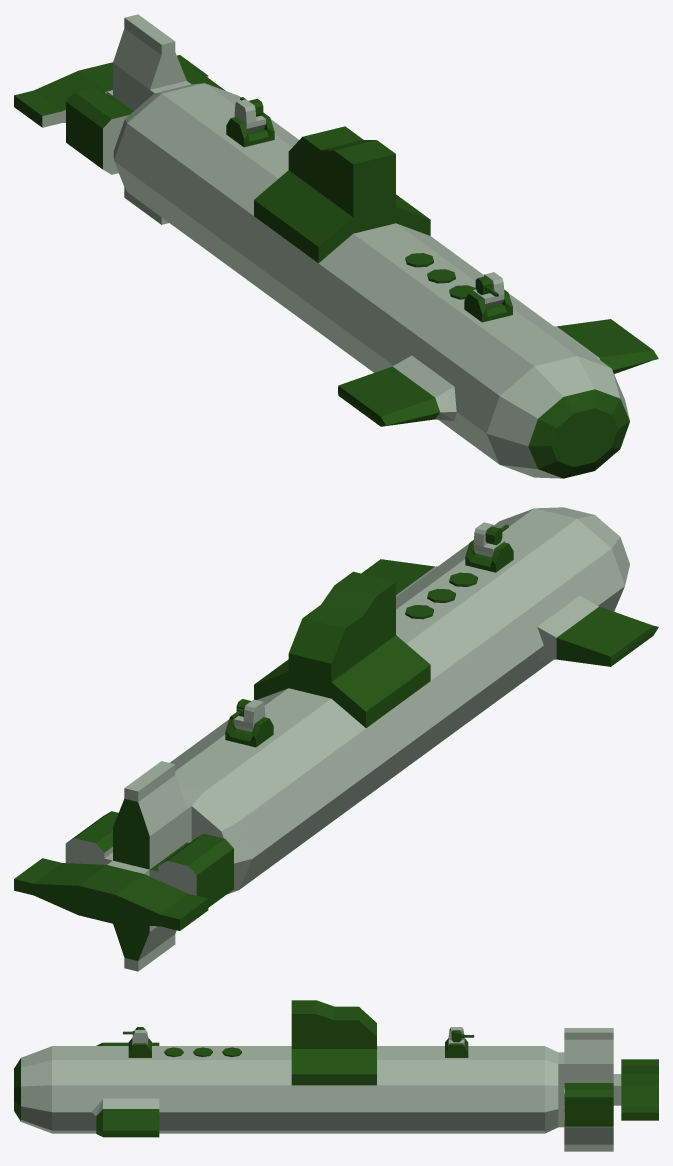
The model's file is combat_submarine_1.glb.
3 renders of one model, top to bottom at view 1: azimuth 30°, elevation 25°; view 2: azimuth 150°, elevation 25°; view 3: azimuth 270°, elevation 25°, orthographic. The views are drawn at different scales.
Parts seen in each view (by area): view 1: base, turretbase_2_base, turretbase_1_base; view 2: base, turretbase_1_base, turretbase_2_base; view 3: base, turretbase_1_base, turretbase_2_base.
Part boxes in pixels (x1,y1,x2,y2): base: [14, 14, 658, 478]; turretbase_2_base: [226, 112, 274, 147]; turretbase_1_base: [464, 289, 512, 322]; base: [14, 507, 658, 971]; turretbase_1_base: [465, 540, 513, 572]; turretbase_2_base: [225, 717, 273, 747]; base: [14, 1000, 658, 1151]; turretbase_1_base: [128, 1038, 151, 1057]; turretbase_2_base: [445, 1038, 468, 1057].
Size of the model in its own units: 1.15 by 0.8672 by 3.57.
